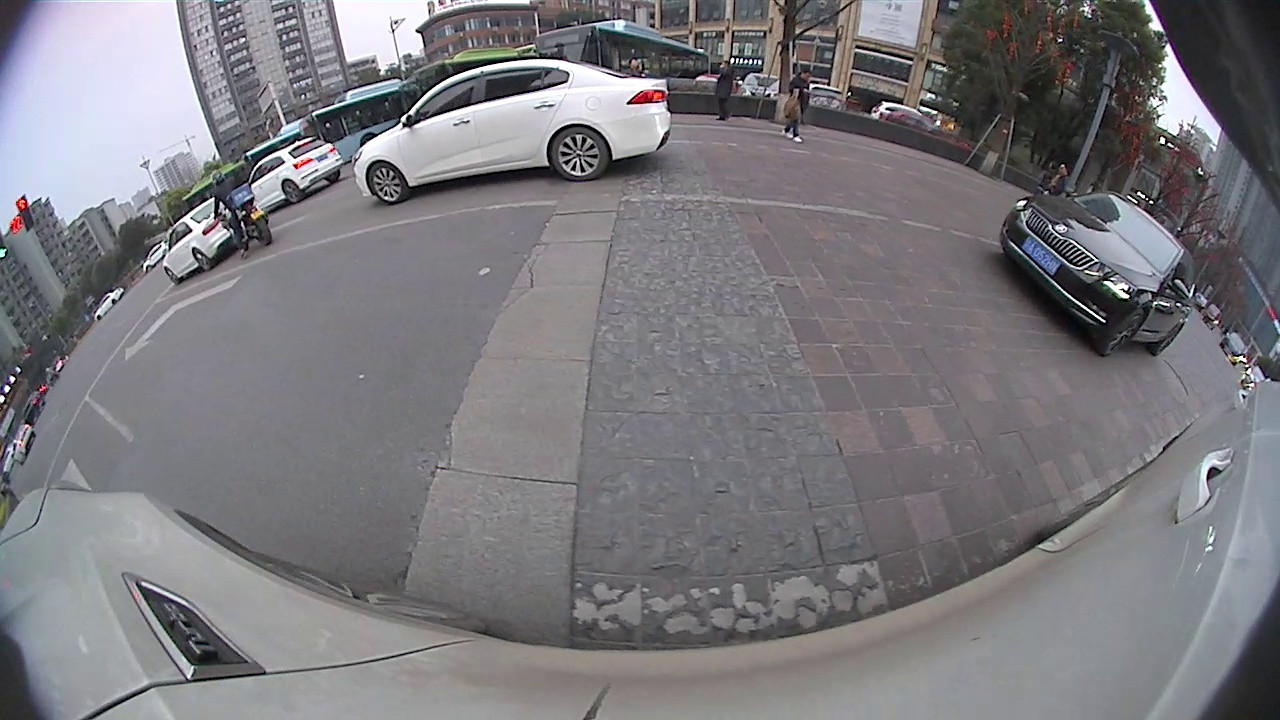bus: (534, 17, 713, 92), (296, 76, 409, 167)
car: (350, 54, 675, 200), (1000, 176, 1196, 360), (243, 140, 346, 211), (162, 197, 229, 283)
front: (1098, 307, 1149, 359), (364, 158, 410, 209)
person: (785, 68, 809, 139)
rear: (548, 124, 612, 185)
rider: (208, 166, 273, 261)
